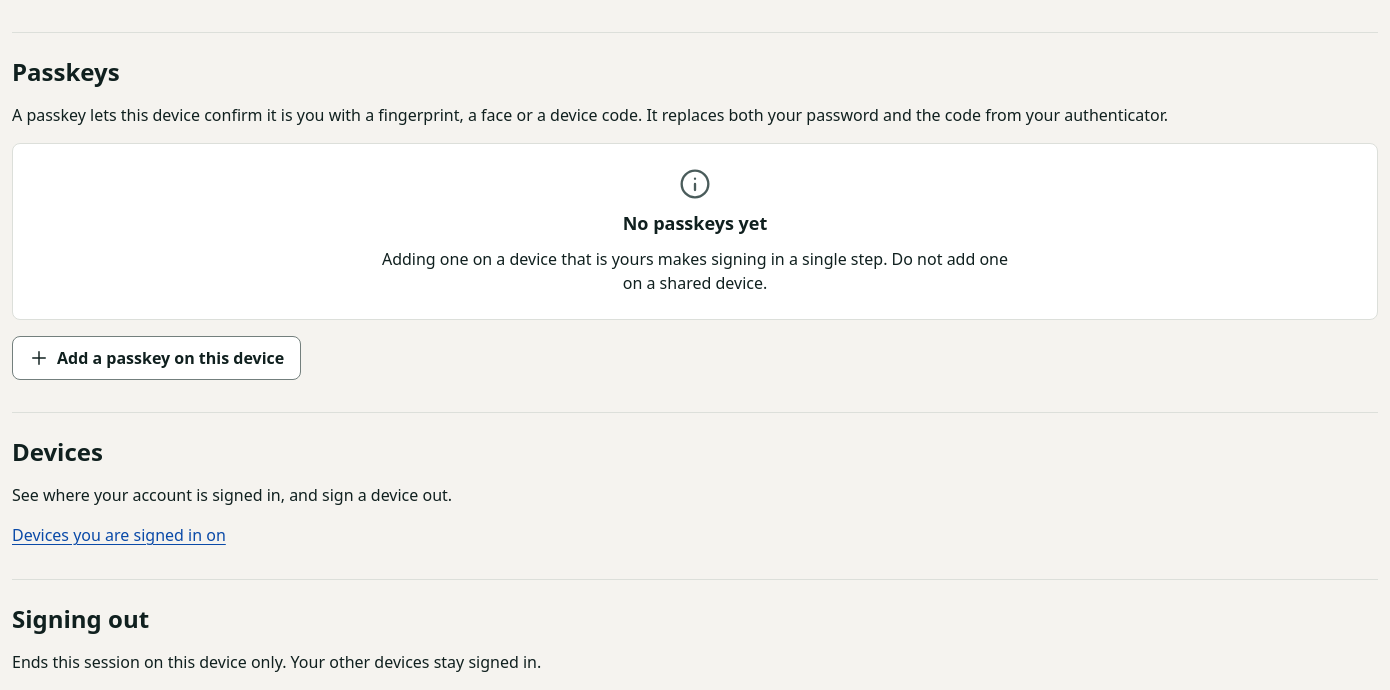
it: sign-in and security › treats a dismissed platform dialog as nothing having happened
(page scrolled)
Click the button "Add a passkey on this device".
click(157, 358)  # box [12,336,301,380]
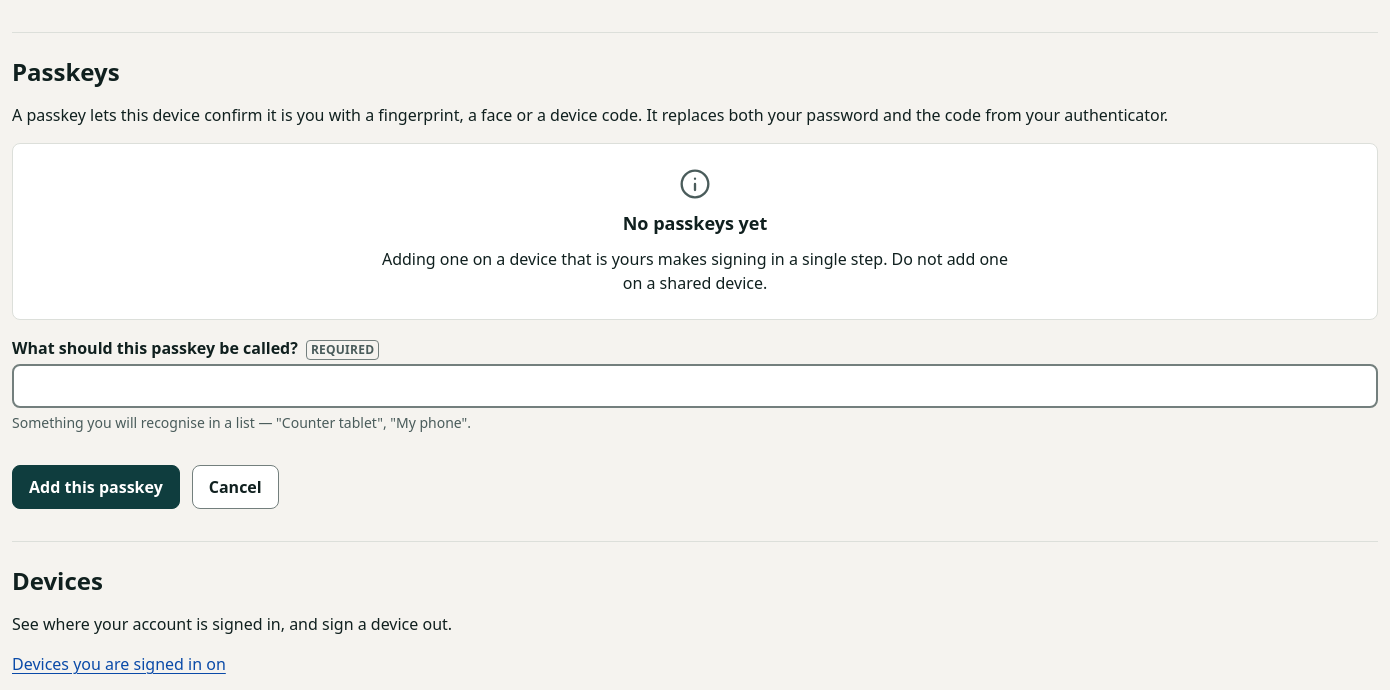
Type "My phone" into the field labelled "What should this passkey be called?".
click(695, 386); type("My phone")  # box [12,364,1378,408]
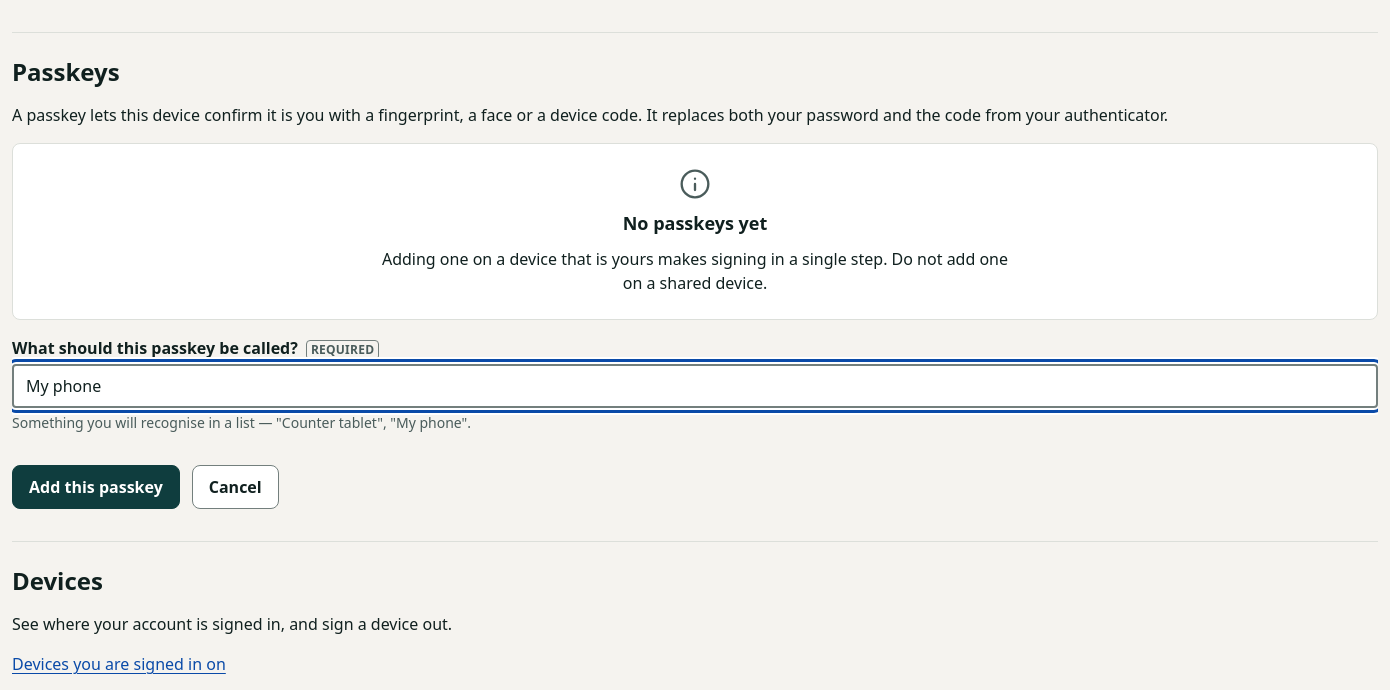
Click the button "Add this passkey".
click(96, 487)  # box [12,465,180,509]
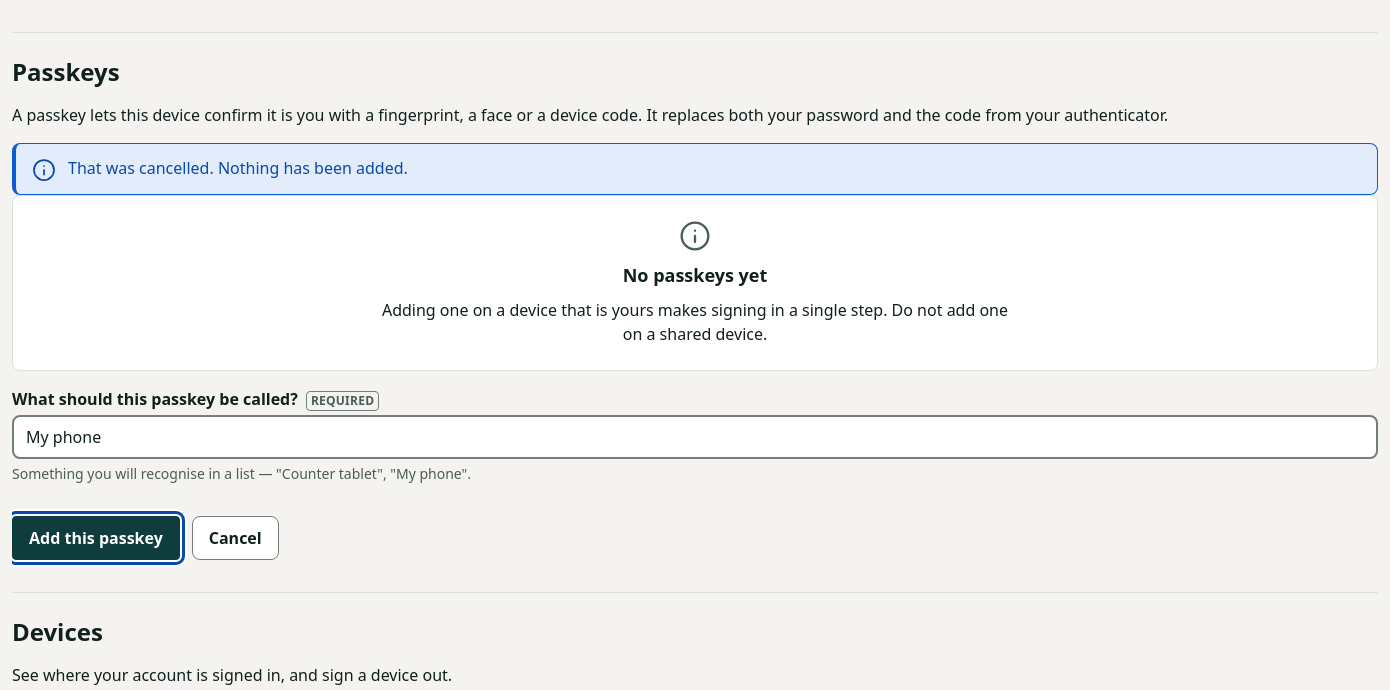
Now the text "That was cancelled. Nothing has been added." is shown, box [68,157,408,179]
